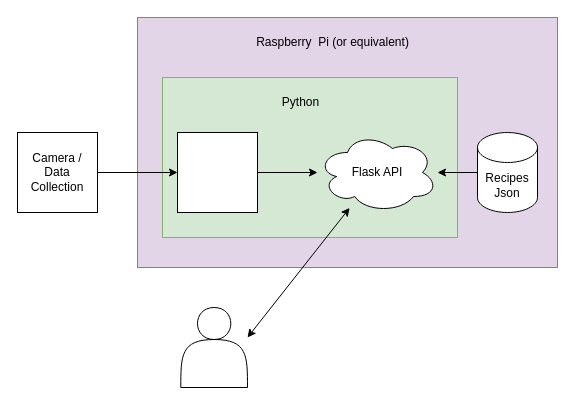
Some shapes in this 575 by 405 pixel diagram are drawn without their labels. Each missing label, with the centre of its shape:
"Electron Client" belongs at pixel 214 347.
"Machine Learning Object Recognition" belongs at pixel 217 172.
